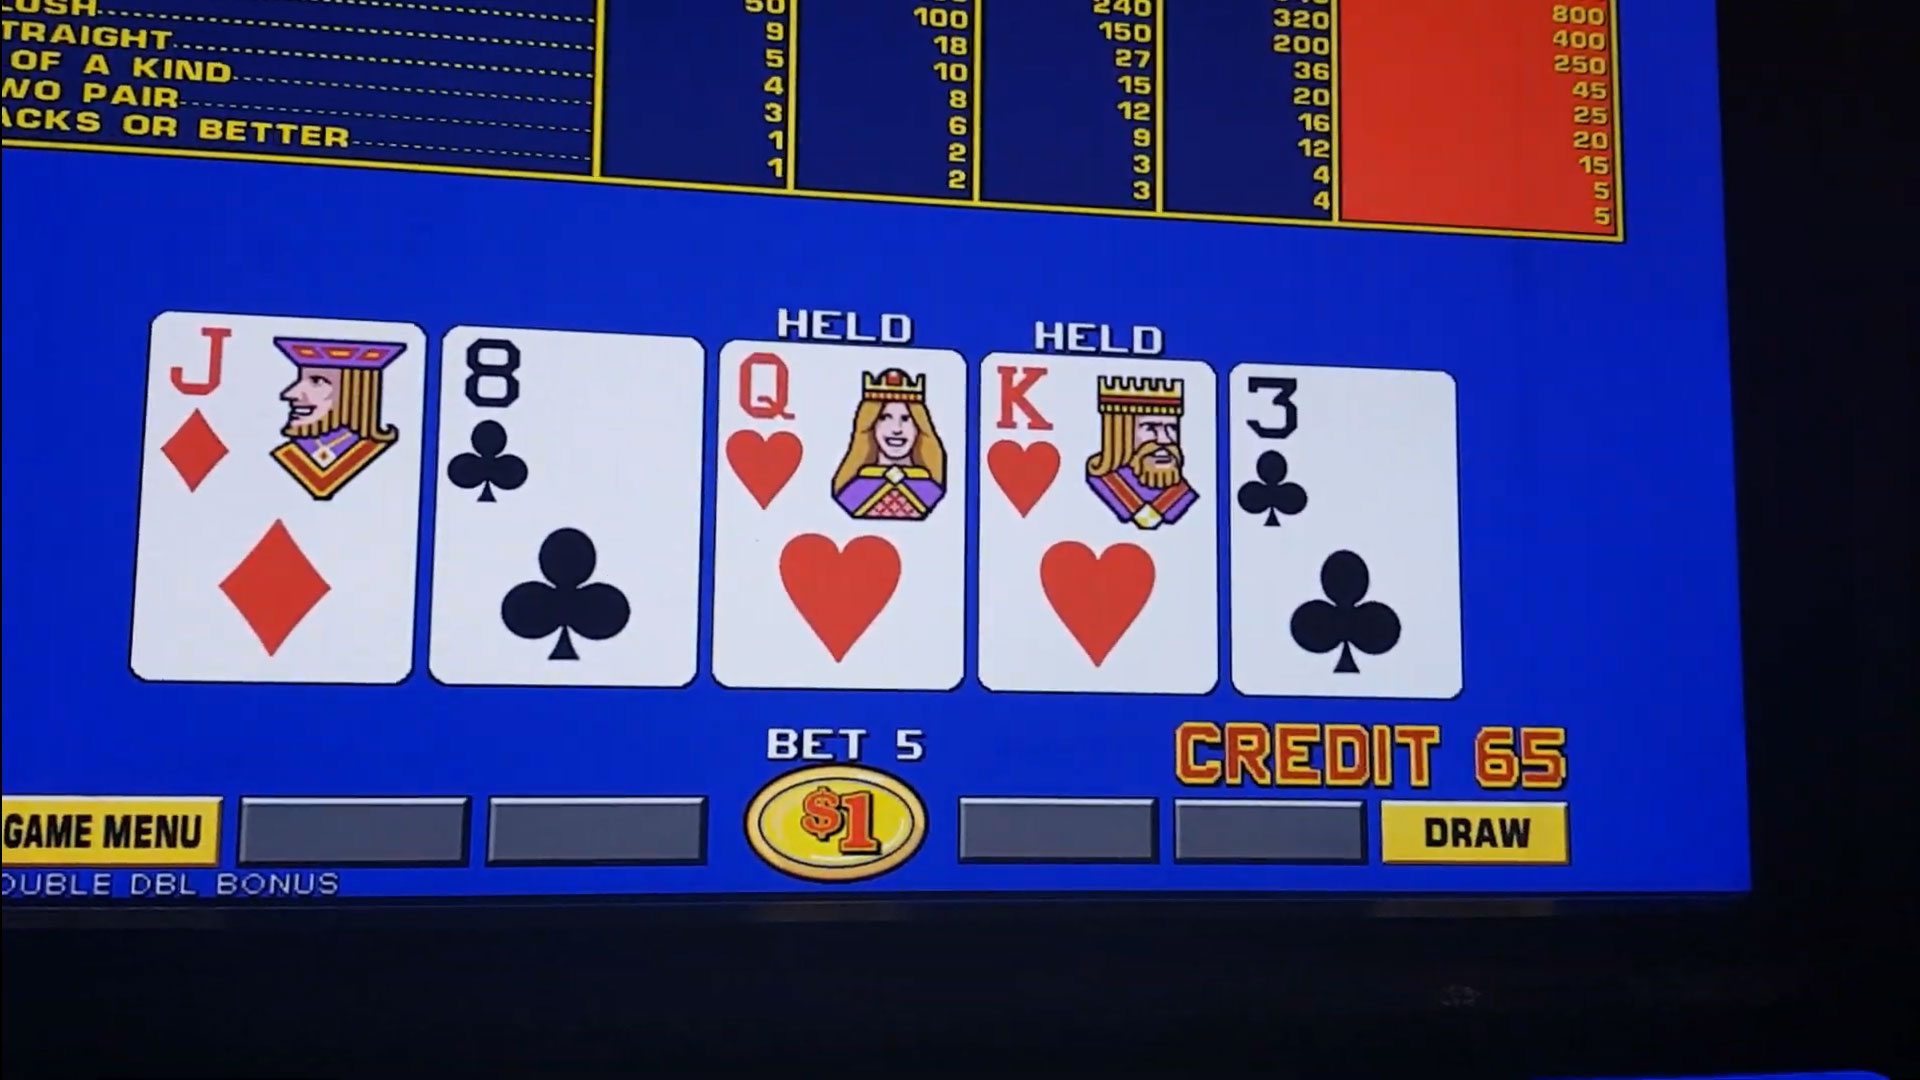C3: (1232, 371, 1448, 541)
C8: (446, 342, 702, 509)
DJ: (158, 328, 413, 502)
HK: (984, 367, 1215, 531)
HQ: (723, 353, 961, 525)
